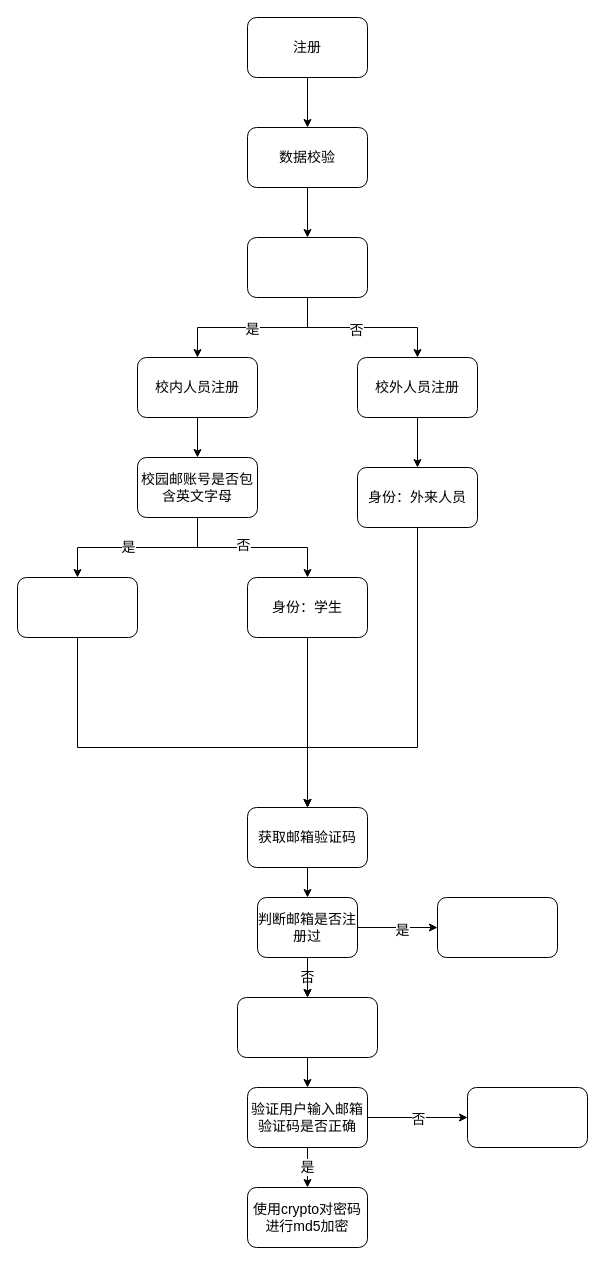
Image size: 605x1265. Some labels were removed from this diagram. The centre of each missing label's shape, as x and y in pixels:
将验证码存入redis，设置过期时间300s: point (307, 1027)
身份：老师: point (77, 607)
返回响应(邮箱已被注册过): point (497, 927)
返回响应(邮箱验证码错误): point (527, 1117)
邮箱是否为校园邮箱: point (307, 267)
